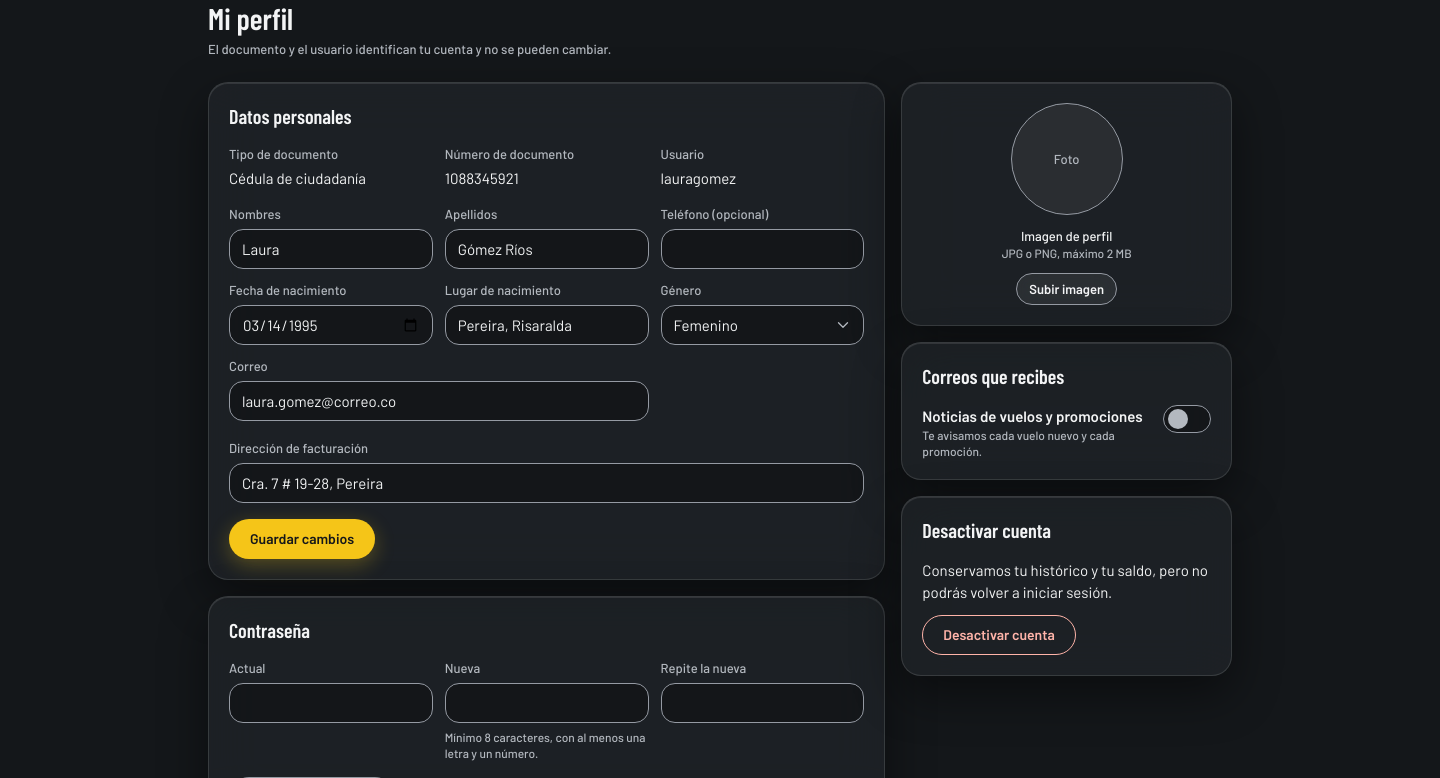
S05 · Desactivar cuenta (HU-09) › «Volver» cierra el diálogo sin desactivar
Click the button "Desactivar cuenta" at point(999, 635), box [922,615,1076,655]
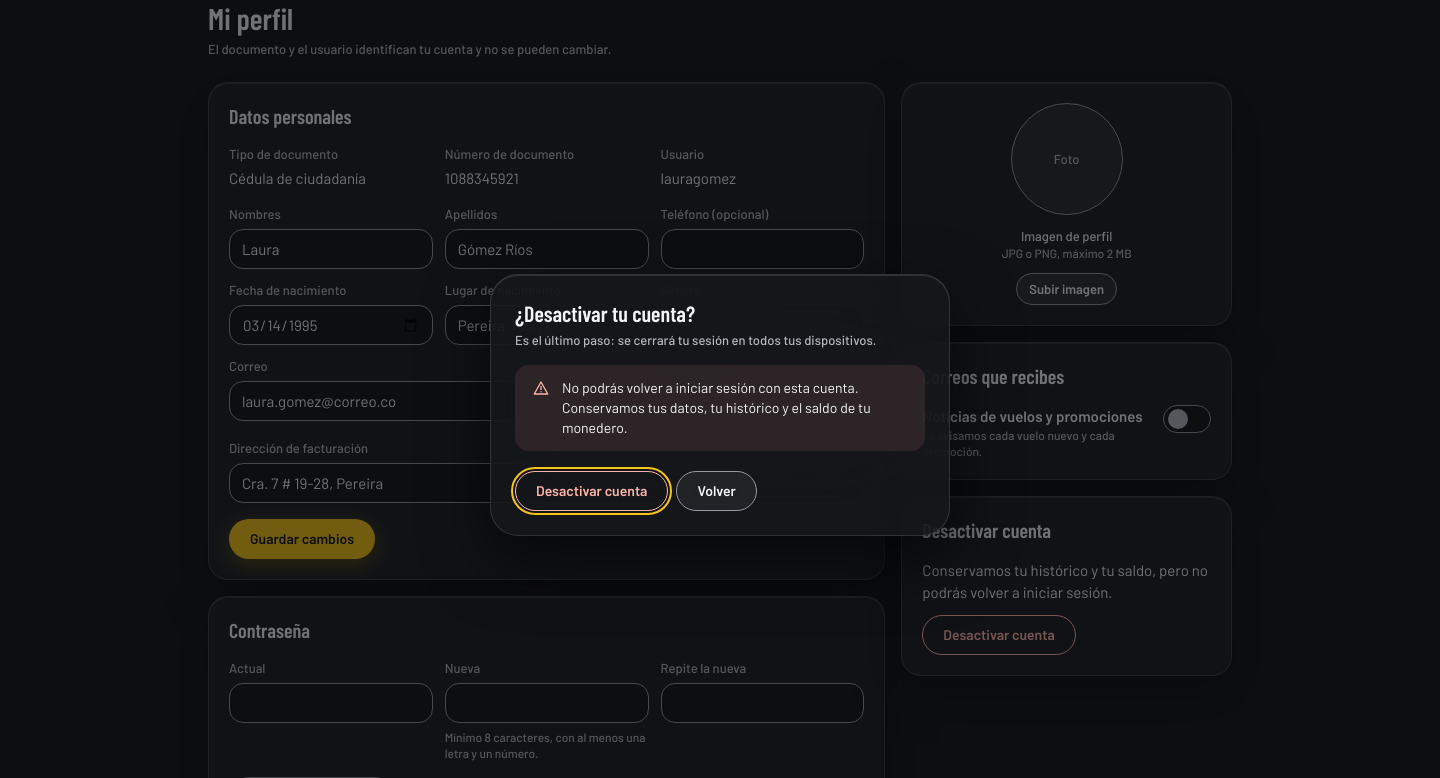
Click the button "Volver" at point(717, 491), box [676,471,757,511]
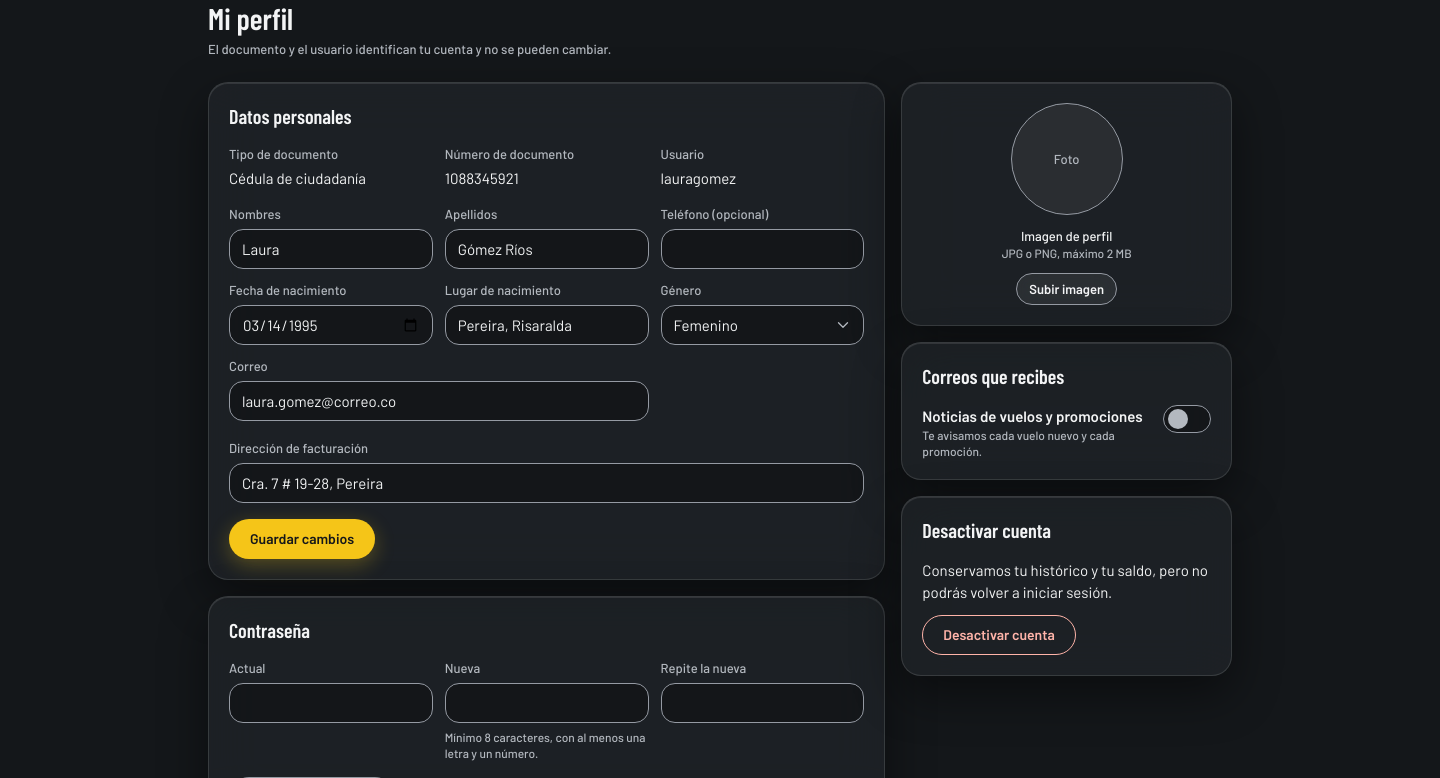
Expected: the dialog is gone
